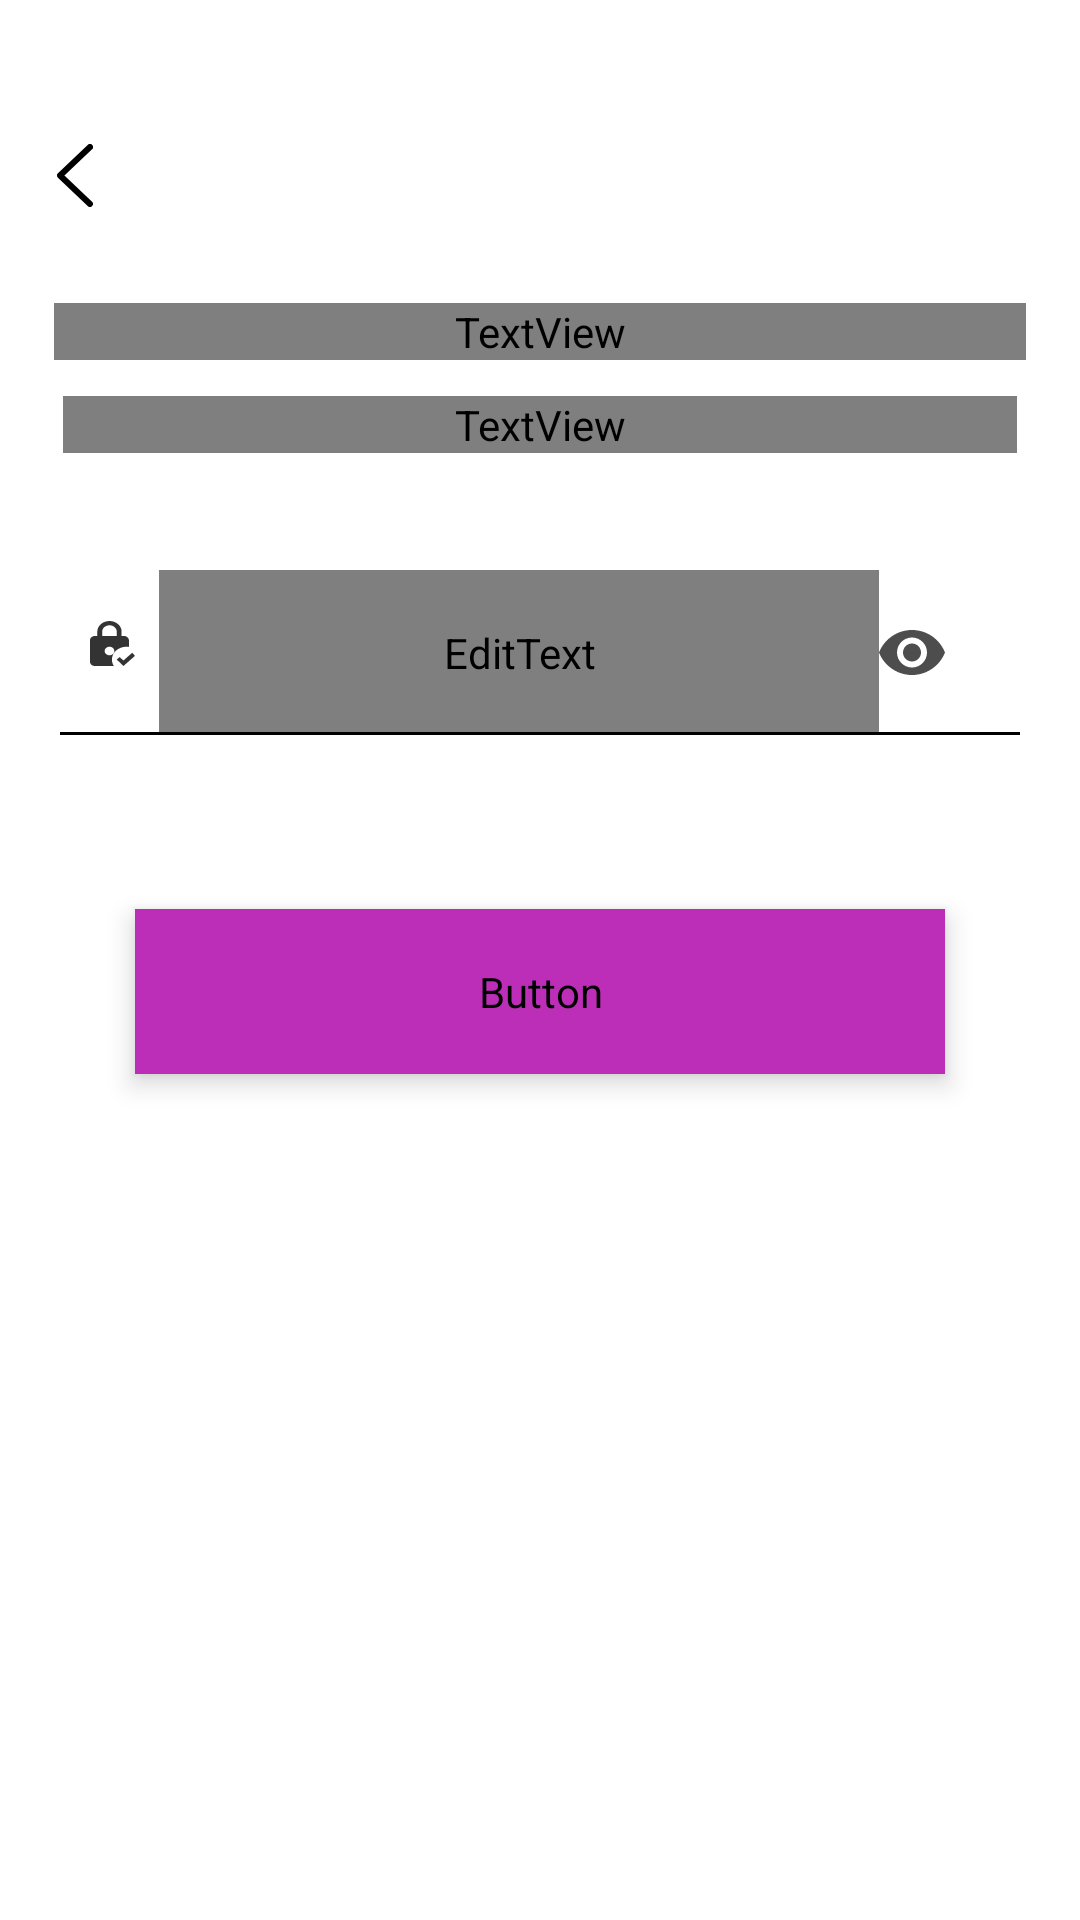

Screen size 1080x1920. Icon name, then its box in pixels as (x1, y1, x2, y2):
eye: (879, 630, 945, 675)
leftarrow: (57, 144, 93, 207)
locktick: (90, 621, 135, 666)
